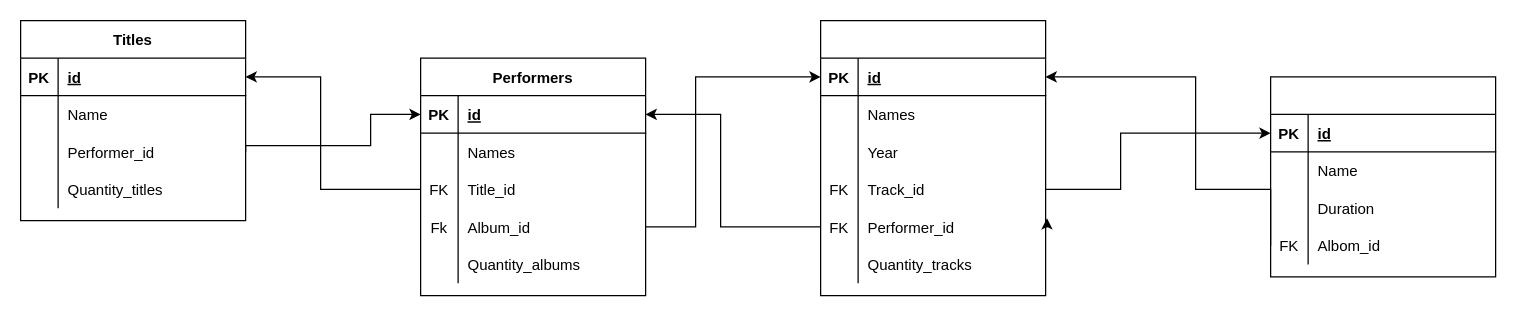
Some shapes in this 1516 by 316 pixel diagram are drawn without their labels. The shapes that lost their labels are listed below. From the top down, each one's box as (x1, y1, x2, y2) in pixels, then its label:
(819, 19, 1046, 296): Albums
(1269, 76, 1496, 277): Tracks
